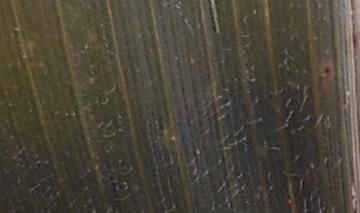tarspot: (324, 67, 330, 74), (257, 98, 262, 105)
